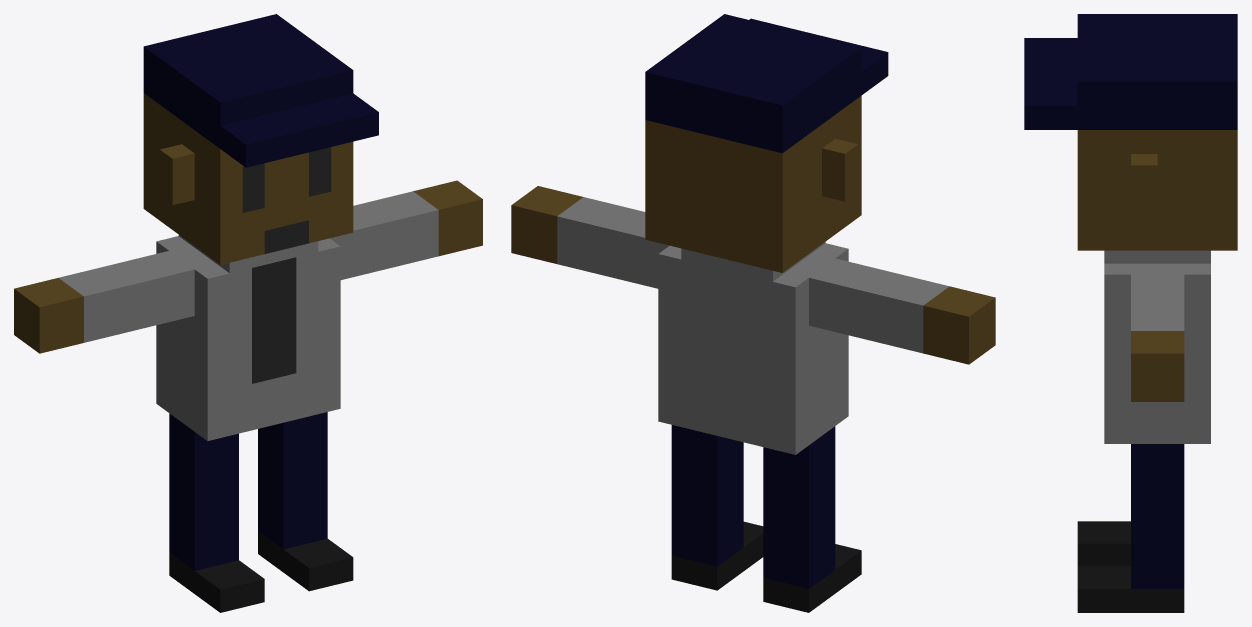
The model's file is Trainvasion Moterman-7-Man2.obj.
3 views of the same model, side by side, from view 1: azimuth 30°, elevation 25°; view 2: azimuth 150°, elevation 25°; view 3: azimuth 270°, elevation 25° (orthographic). The views are drawn at different scales.
Parts seen in each view (by area): view 1: Man2; view 2: Man2; view 3: Man2.
Part boxes in pixels (x1,y1,x2,y2): Man2: (14, 14, 482, 612); Man2: (511, 14, 995, 612); Man2: (1024, 14, 1237, 612).
Bounding box in the file's own units: 2 × 2.2 × 0.8.
1 material, 1 textured.
